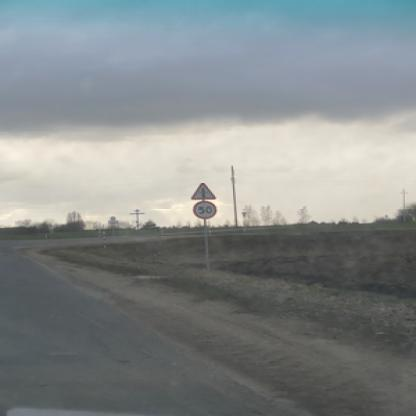speedlimit: (190, 200, 216, 218)
